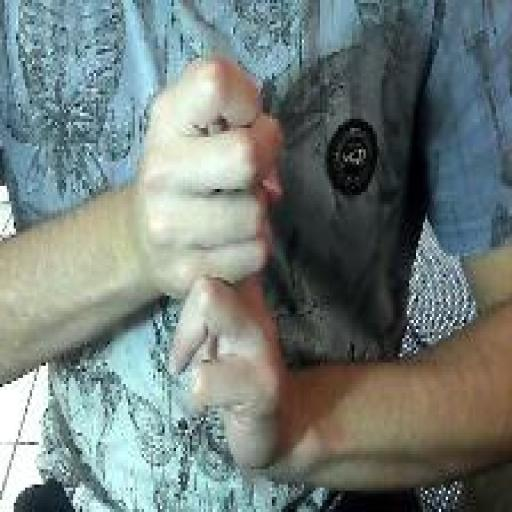Ne -rat-: (135, 50, 286, 477)
